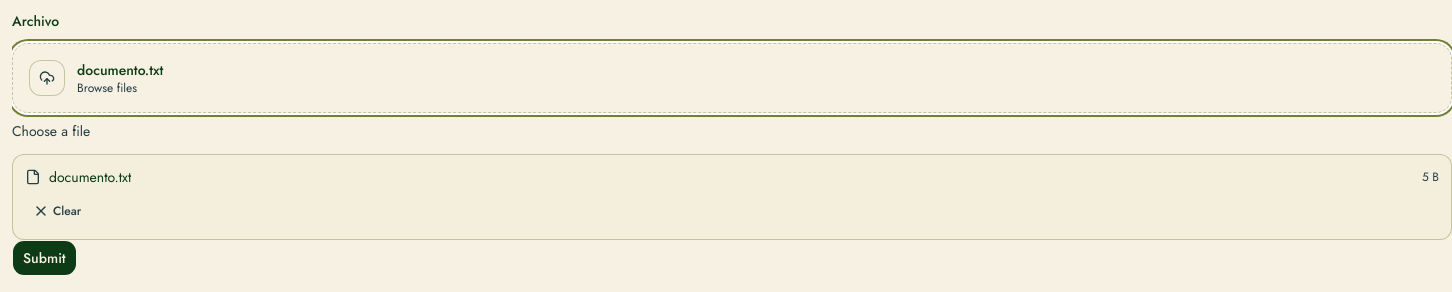
Test: FileField › clears selected file
Earlier steps of the test are not shown.
Expected: the text "documento.txt" is shown 2 times, x1=77 y1=60 x2=163 y2=80; x1=49 y1=167 x2=131 y2=187
Click the button "Clear" at [57, 211], box x1=25 y1=195 x2=89 y2=227
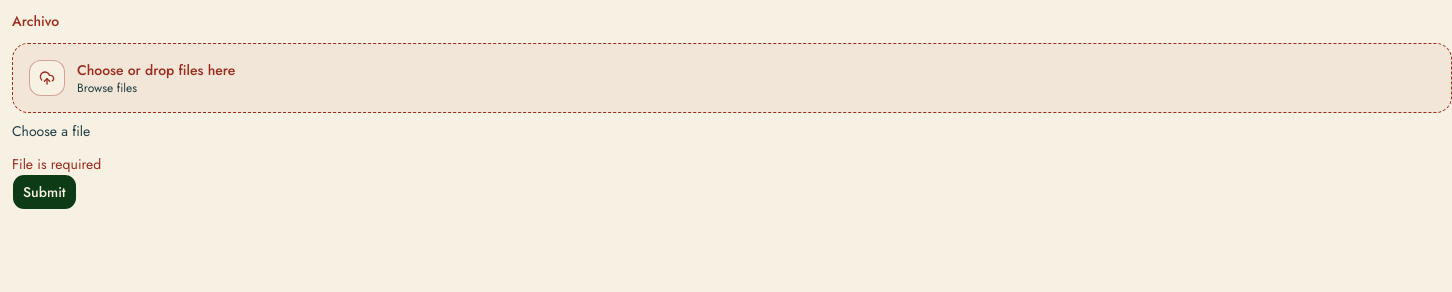
Now the text "documento.txt" is gone
Now the text "Choose or drop files here" is shown, box x1=77 y1=60 x2=235 y2=80
